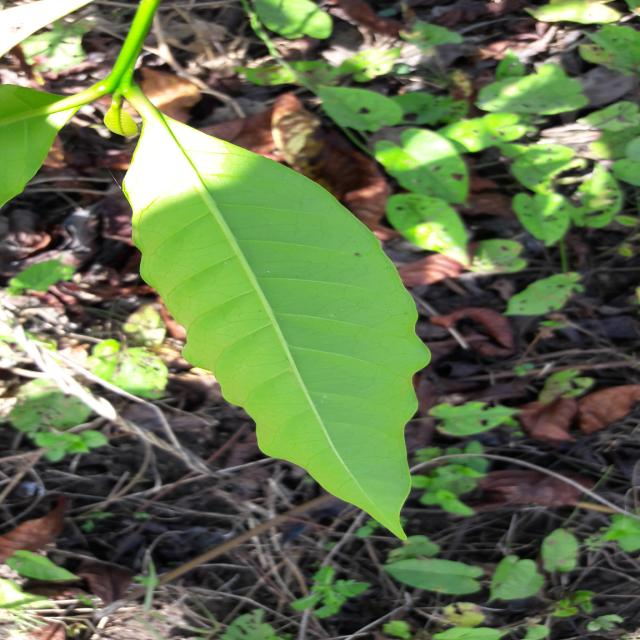Sanas: (122, 90, 431, 542)
